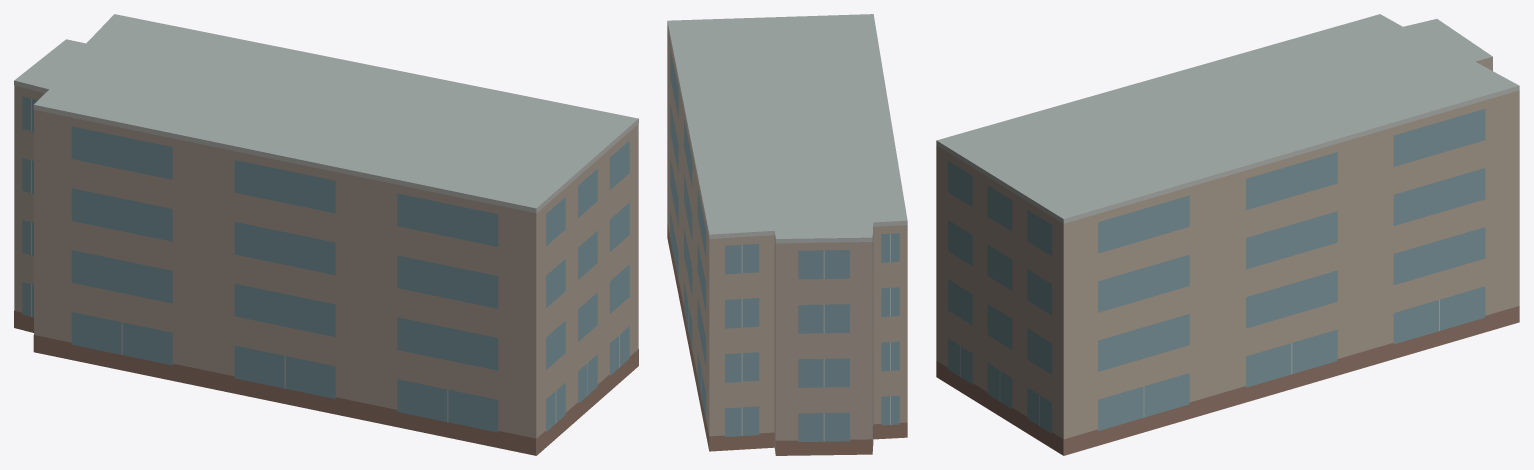
Rendered from survey-upis-32604126.glb.
3 renders of one model, left to right at view 1: azimuth 30°, elevation 25°; view 2: azimuth 150°, elevation 25°; view 3: azimuth 270°, elevation 25°, orthographic. The views are drawn at different scales.
Visible parts, largest first — view 1: survey-upis-32604126.tmp; view 2: survey-upis-32604126.tmp; view 3: survey-upis-32604126.tmp.
Part boxes in pixels (x1=…): survey-upis-32604126.tmp: x1=14, y1=14, x2=638, y2=455; survey-upis-32604126.tmp: x1=667, y1=14, x2=907, y2=455; survey-upis-32604126.tmp: x1=936, y1=14, x2=1519, y2=455.
Size of the model in its own units: 22.69 by 12.2 by 27.24.
